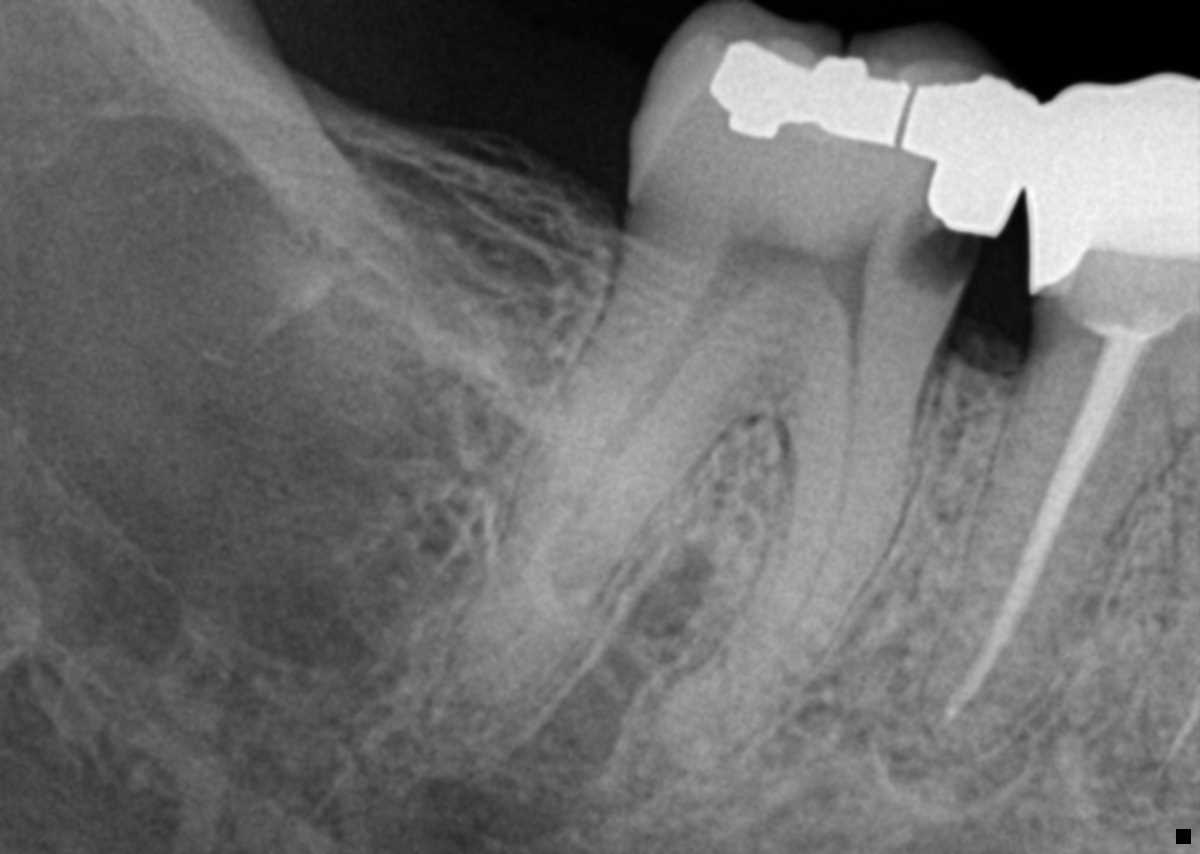Apical Lesion: (600, 644, 720, 818)
Distal Canal: (532, 311, 716, 602)
Distal Root: (445, 262, 759, 702)
Main Root: (926, 386, 1160, 750)
Mesial Canal: (777, 362, 858, 643)
Mesial Root: (661, 355, 934, 767)
Root Canal Filling: (938, 337, 1152, 731)
decay: (895, 214, 979, 301)
